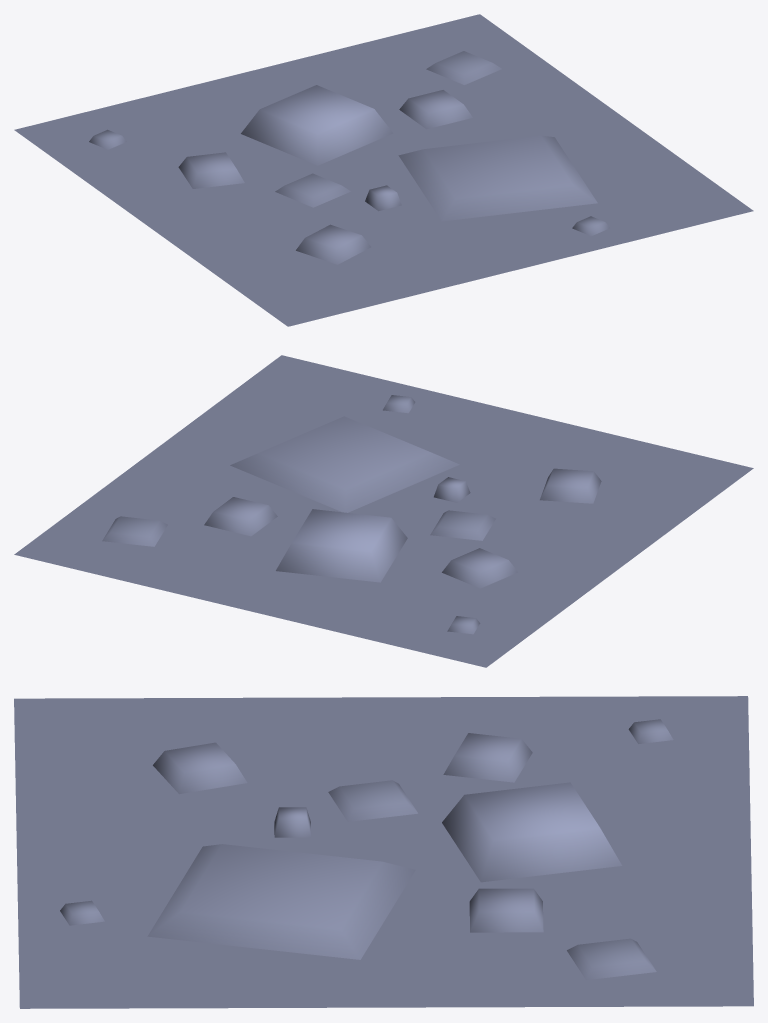
File: floor-detail.009_lev5.glb
3 renders of one model, top to bottom at view 1: azimuth 30°, elevation 25°; view 2: azimuth 150°, elevation 25°; view 3: azimuth 270°, elevation 25°, orthographic. The views are drawn at different scales.
Parts seen in each view (by area): view 1: floor-detail.009_lev5; view 2: floor-detail.009_lev5; view 3: floor-detail.009_lev5.
Boxes of the visible parts, box(x1,y1,x2,y2) form: floor-detail.009_lev5: box(14, 14, 753, 326); floor-detail.009_lev5: box(14, 355, 753, 667); floor-detail.009_lev5: box(14, 696, 753, 1008).
Bounding box in the file's own units: 4.03 × 0.2 × 4.03.
Materials: 1 (1 with a texture image).
